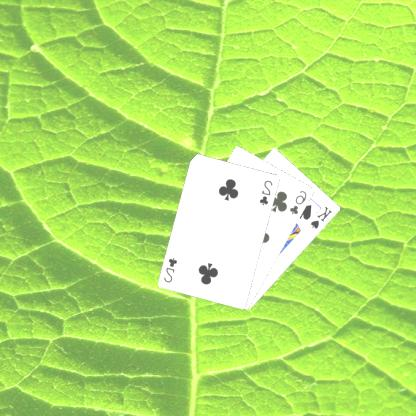2C: (258, 177, 276, 207), (164, 255, 180, 284)
6C: (289, 187, 310, 216)
KS: (310, 203, 336, 230)
